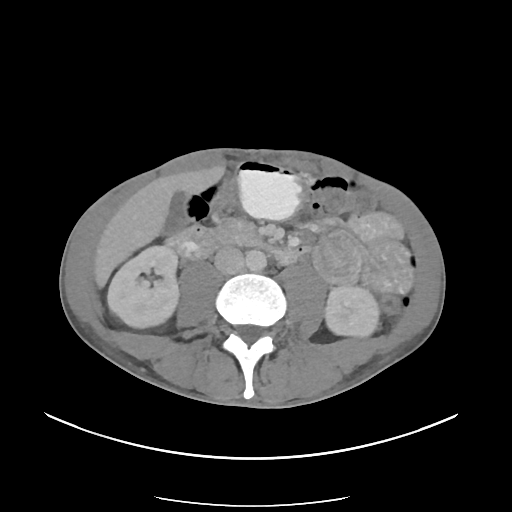Lesion: (374, 318, 384, 333)
